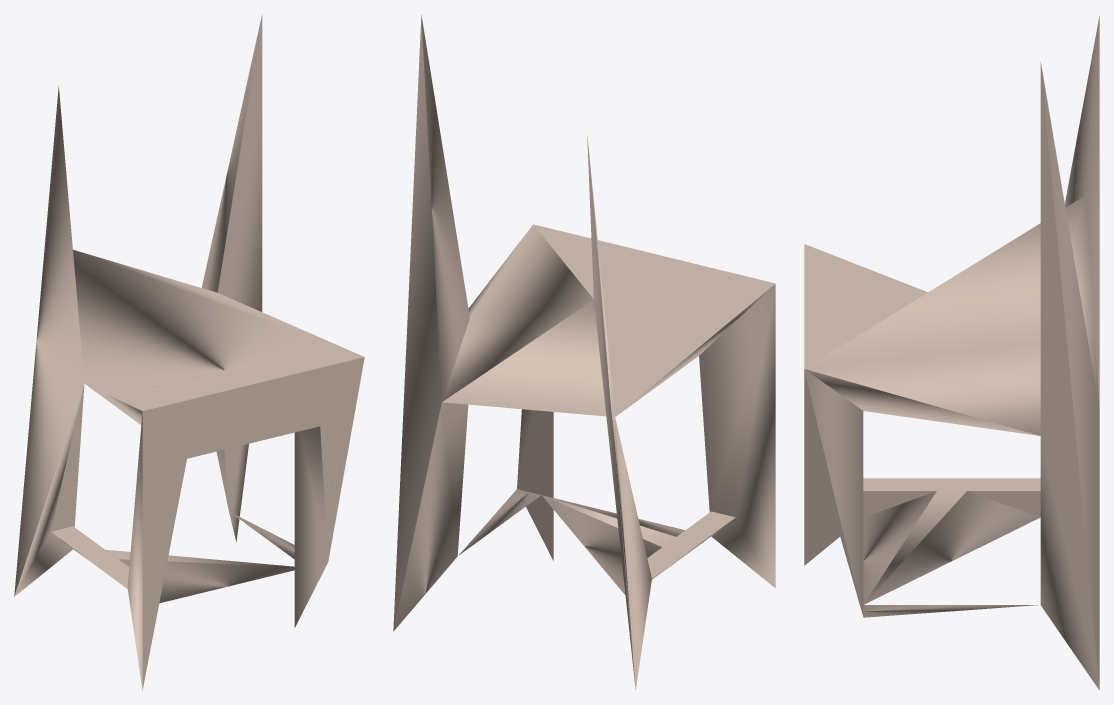
The model's file is chair.glb.
3 renders of one model, left to right at view 1: azimuth 30°, elevation 25°; view 2: azimuth 150°, elevation 25°; view 3: azimuth 270°, elevation 25°, orthographic. The views are drawn at different scales.
Parts seen in each view (by area): view 1: chair(Clone); view 2: chair(Clone); view 3: chair(Clone).
Boxes of the visible parts, bbox=[...] form: chair(Clone): bbox=[14, 14, 364, 690]; chair(Clone): bbox=[393, 15, 775, 689]; chair(Clone): bbox=[804, 16, 1099, 690].
Size of the model in its own units: 0.1996 by 0.47 by 0.1996.
